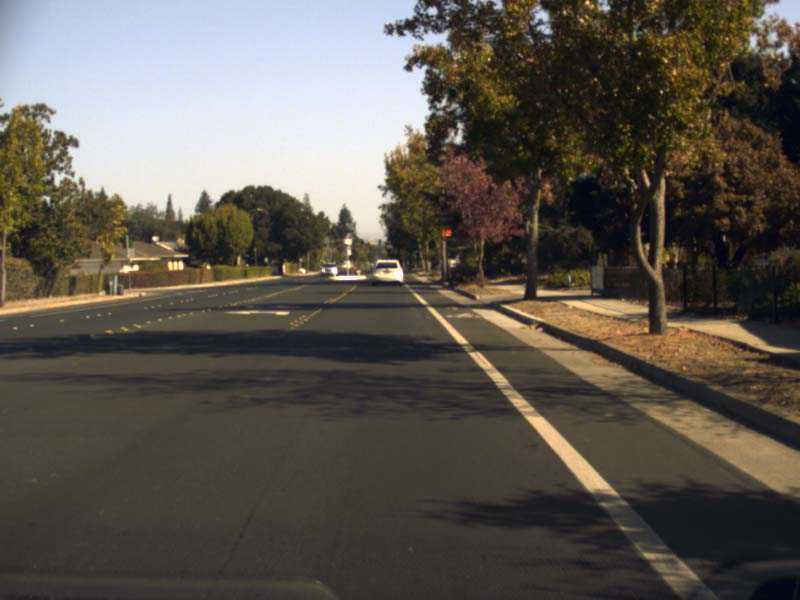Green: (407, 249, 409, 255)
